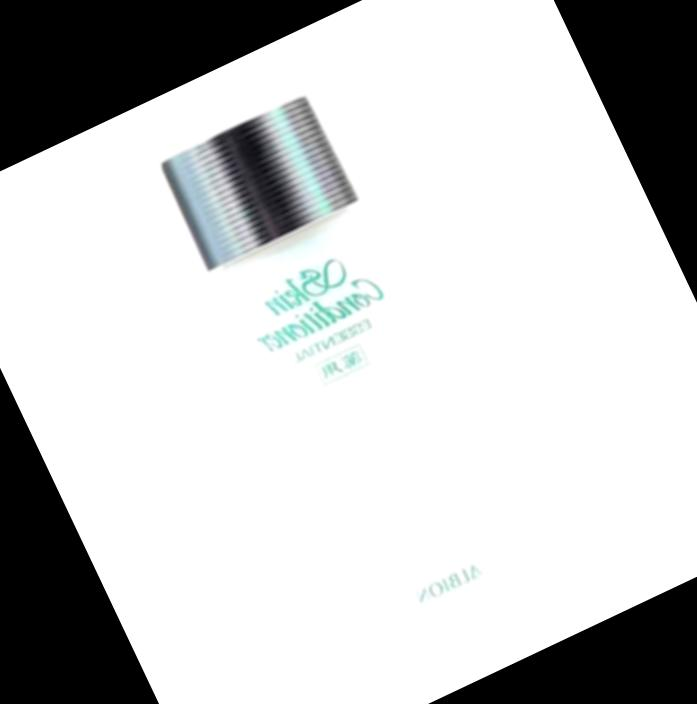cosmetic: (154, 85, 553, 666)
